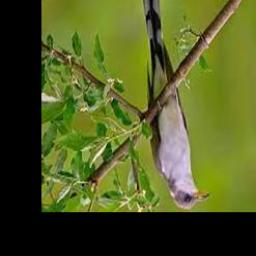Cuckoo: (141, 0, 209, 210)
